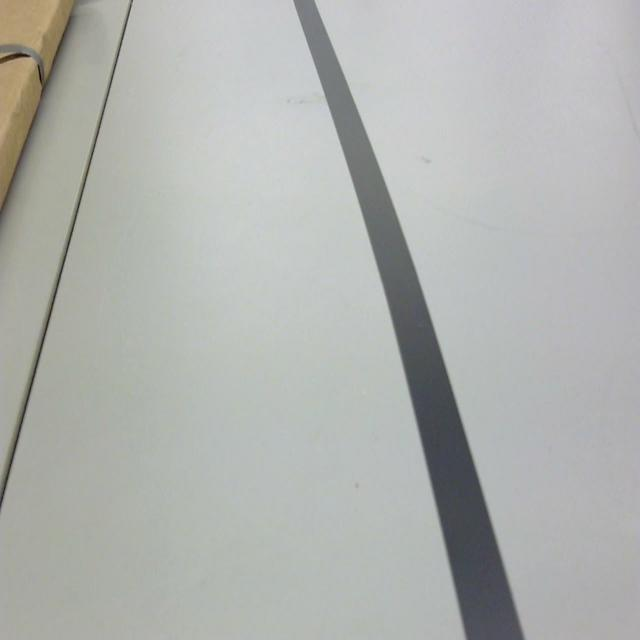tape: (284, 0, 544, 640)
